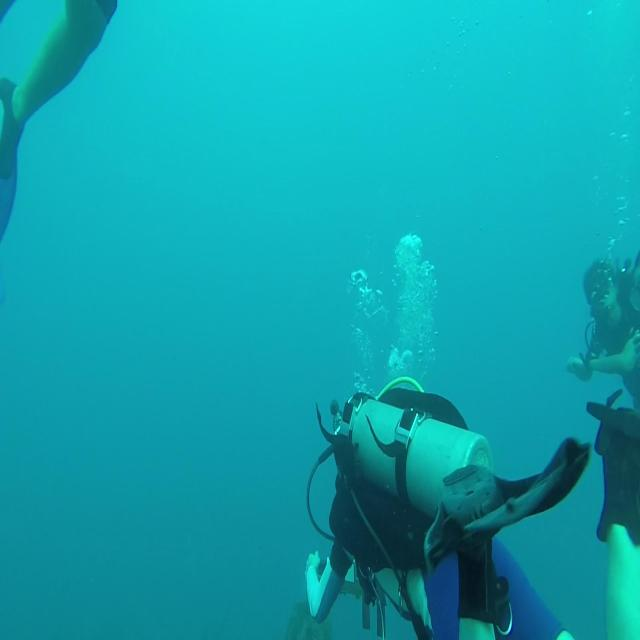human: (303, 375, 591, 638), (0, 0, 118, 244), (566, 248, 639, 638), (566, 248, 639, 408)
